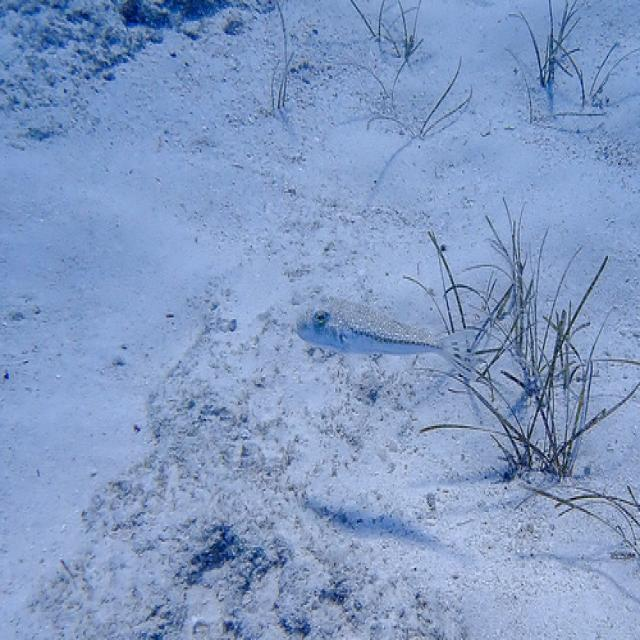Balik: (297, 300, 477, 366)
